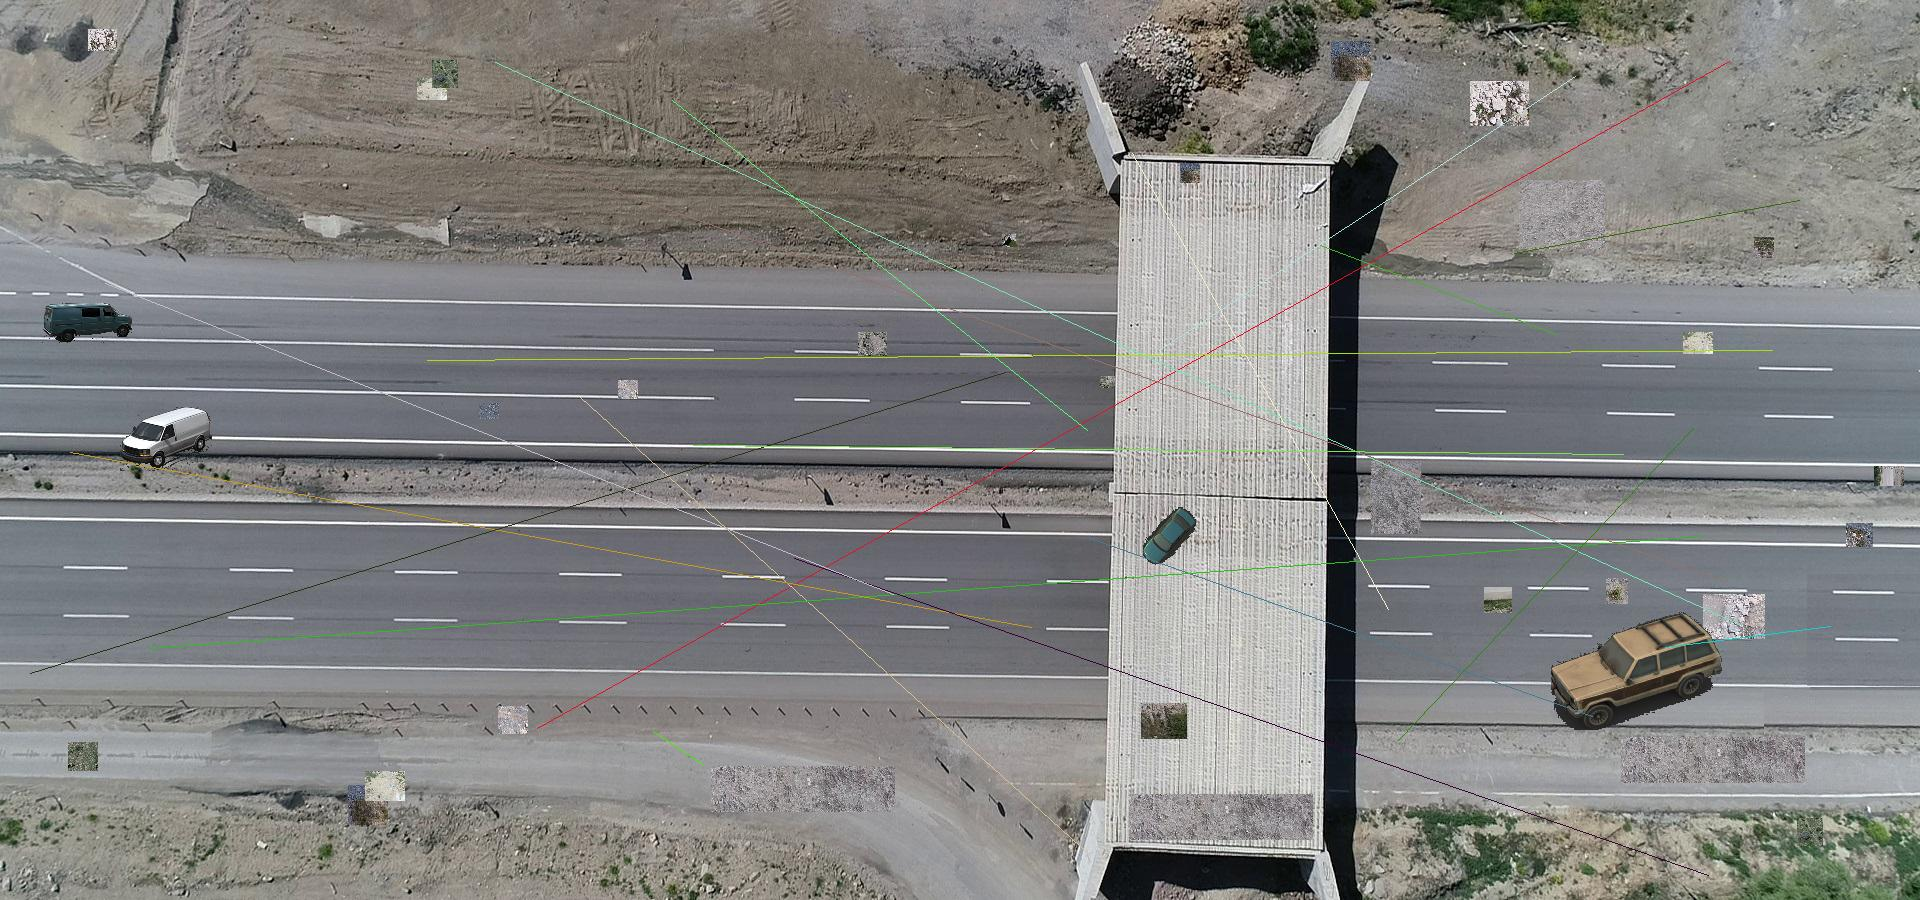arac: (1551, 609, 1723, 730), (120, 407, 212, 471), (42, 302, 133, 343), (1142, 504, 1198, 564)
